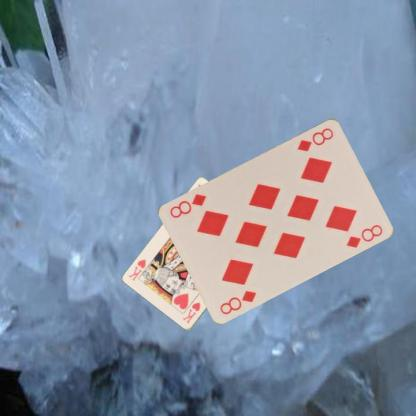8d: (217, 287, 258, 316), (295, 125, 335, 152)
Kh: (180, 300, 202, 325)
